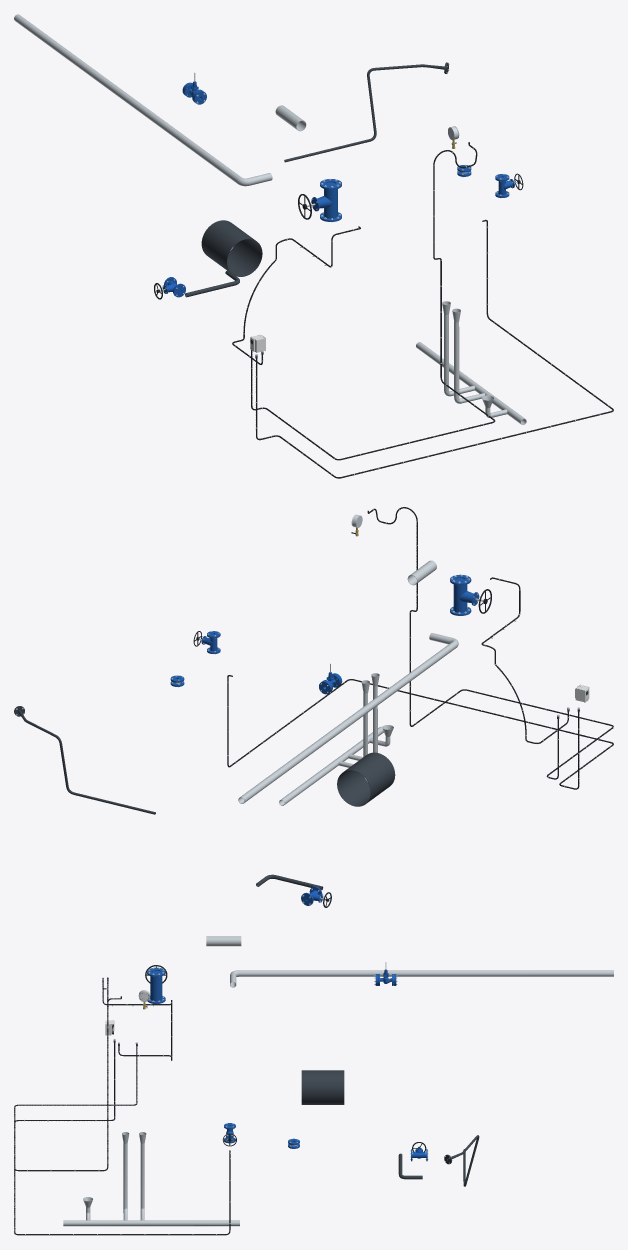
Rendered from s4000-4-BV5Yqq1H.glb.
3 renders of one model, top to bottom at view 1: azimuth 30°, elevation 25°; view 2: azimuth 150°, elevation 25°; view 3: azimuth 270°, elevation 25°, orthographic. The views are drawn at different scales.
Parts seen in each view (by area): view 1: safety_vent_2 / steel, flue_spacer / dark, local_open_drains / steel, wiring_pump_1 / black, wiring_pressure_transmitter / black, steam_manual / blue, tds_without_fv / dark; view 2: safety_vent_2 / steel, flue_spacer / dark, local_open_drains / steel, wiring_pump_1 / black, wiring_pressure_transmitter / black, steam_manual / blue, tds_without_fv / dark, wiring_low_level_2 / black; view 3: safety_vent_2 / steel, local_open_drains / steel, flue_spacer / dark, wiring_pressure_transmitter / black, wiring_pump_1 / black, steam_manual / blue, wiring_low_level_2 / black.
Part boxes in pixels (<box>): safety_vent_2 / steel: <box>14,14,272,186</box>; flue_spacer / dark: <box>201,220,262,276</box>; local_open_drains / steel: <box>416,301,526,424</box>; wiring_pump_1 / black: <box>256,219,613,478</box>; wiring_pressure_transmitter / black: <box>251,142,495,460</box>; steam_manual / blue: <box>311,179,341,221</box>; tds_without_fv / dark: <box>284,62,448,162</box>; safety_vent_2 / steel: <box>238,633,458,803</box>; flue_spacer / dark: <box>337,752,395,806</box>; local_open_drains / steel: <box>279,673,393,805</box>; wiring_pump_1 / black: <box>227,675,613,789</box>; wiring_pressure_transmitter / black: <box>367,507,613,779</box>; steam_manual / blue: <box>450,574,479,615</box>; tds_without_fv / dark: <box>14,706,155,814</box>; wiring_low_level_2 / black: <box>481,577,568,743</box>; safety_vent_2 / steel: <box>230,970,613,987</box>; local_open_drains / steel: <box>63,1132,239,1226</box>; flue_spacer / dark: <box>301,1070,344,1104</box>; wiring_pressure_transmitter / black: <box>14,977,137,1171</box>; wiring_pump_1 / black: <box>14,1043,230,1235</box>; steam_manual / blue: <box>147,967,165,1003</box>; wiring_low_level_2 / black: <box>102,978,172,1060</box>.
Bounding box in the file's own units: 4.55 × 3.01 × 7.03.
